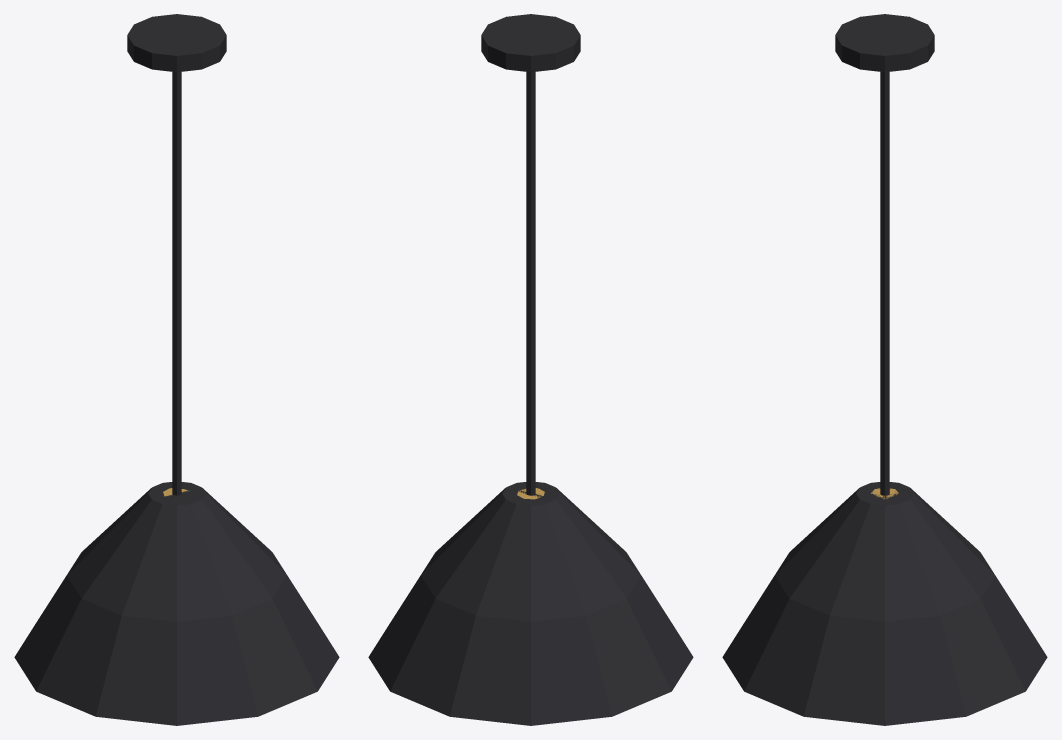
The model's file is FN_Lamp_Pendant.fbx.
3 views of the same model, side by side, from view 1: azimuth 30°, elevation 25°; view 2: azimuth 150°, elevation 25°; view 3: azimuth 270°, elevation 25° (orthographic).
Visible parts, largest first — view 1: FN_Lamp_Pendant; view 2: FN_Lamp_Pendant; view 3: FN_Lamp_Pendant.
Part boxes in pixels (x1=…): FN_Lamp_Pendant: x1=14, y1=14, x2=339, y2=725; FN_Lamp_Pendant: x1=368, y1=14, x2=693, y2=725; FN_Lamp_Pendant: x1=722, y1=14, x2=1047, y2=725.
Bounding box in the file's own units: 36 × 83.8 × 36.
2 materials, 1 textured.
